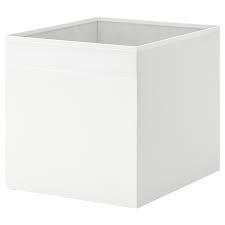box: (6, 16, 221, 209)
